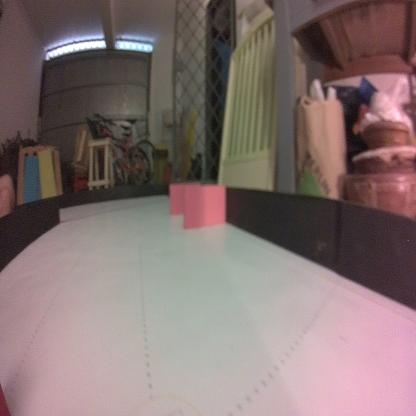magenta: (182, 185, 225, 231), (168, 181, 202, 218)
